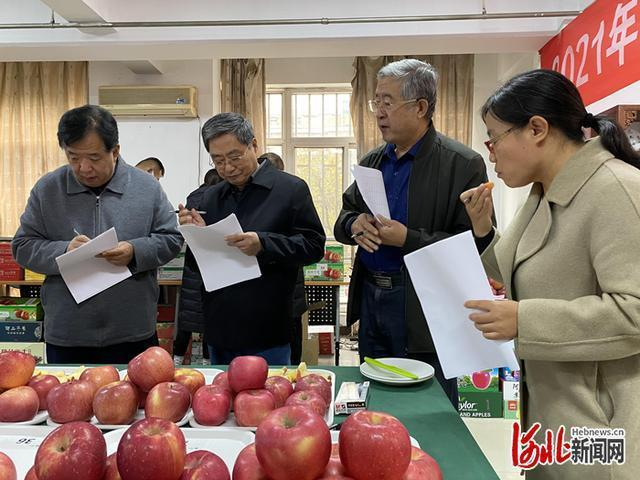apple: (252, 403, 335, 479), (337, 411, 411, 478), (30, 423, 106, 480), (117, 415, 181, 478), (125, 346, 174, 391), (91, 380, 139, 424), (142, 381, 189, 423), (189, 381, 231, 426), (49, 379, 92, 420), (179, 449, 230, 480), (227, 354, 267, 392), (1, 387, 40, 423), (1, 350, 36, 389), (25, 372, 62, 408), (230, 443, 266, 480), (79, 364, 120, 394), (297, 373, 332, 404), (287, 389, 326, 416), (172, 367, 205, 395), (266, 375, 293, 405)
